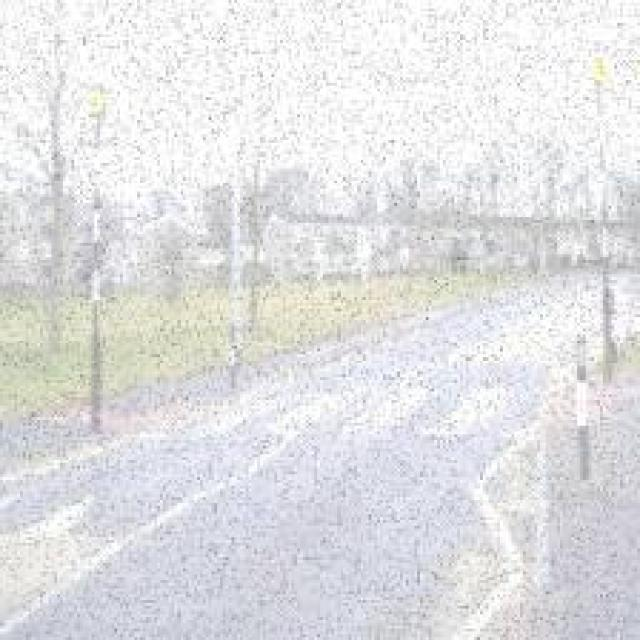walk-crossing: (170, 383, 547, 430)
